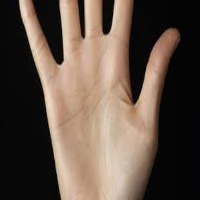ring: (52, 1, 86, 54)
